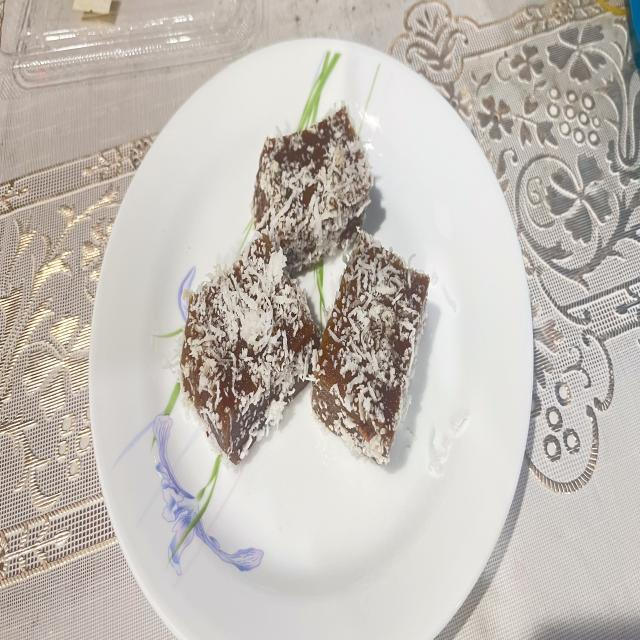kaswi: (180, 233, 319, 464), (311, 231, 429, 464), (252, 107, 372, 273)
